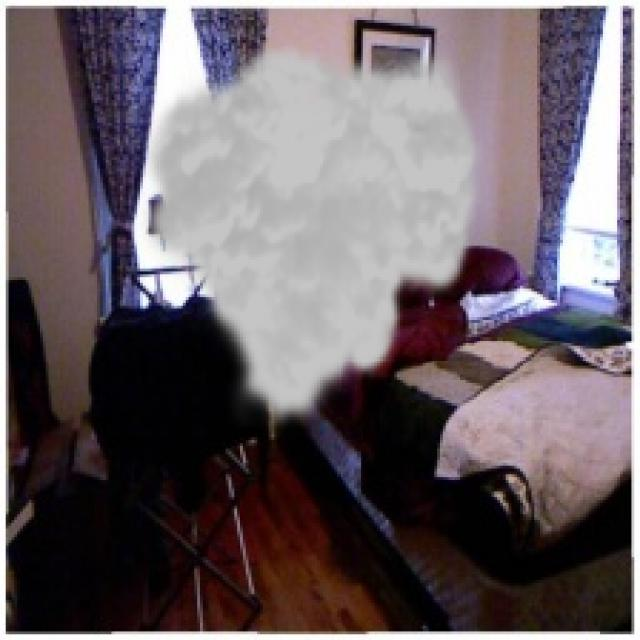smoke: (134, 40, 489, 431)
